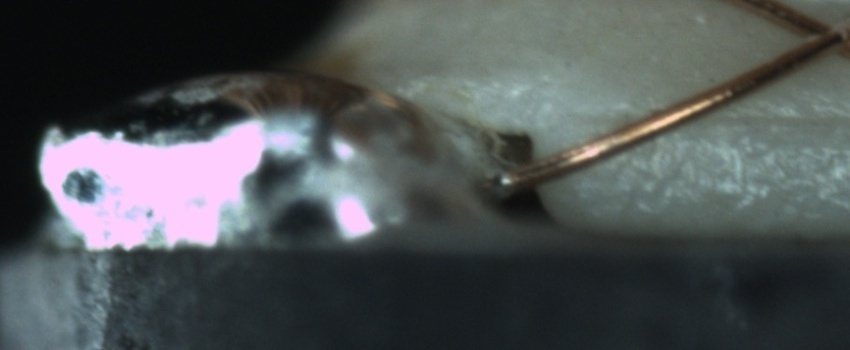CL: (784, 2, 847, 64)
DL: (604, 86, 850, 154)
